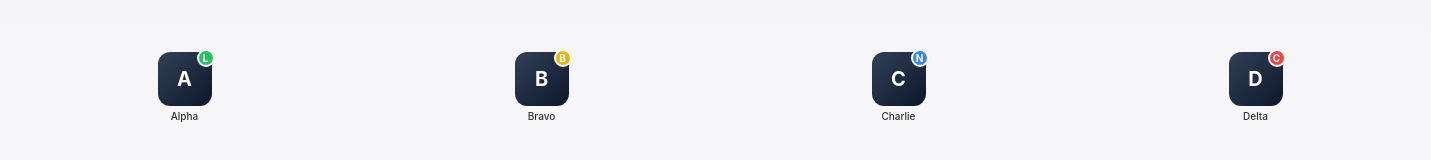
Search filtering via IconGrid › filters by badge label
The width and height of the screenshot is (1431, 160).
Press the mouse on the table named "Product apps" at (720, 87), box left=158, top=52, right=1282, bottom=122
Press the mouse on the table named "Product apps" at (720, 87), box left=158, top=52, right=1282, bottom=122
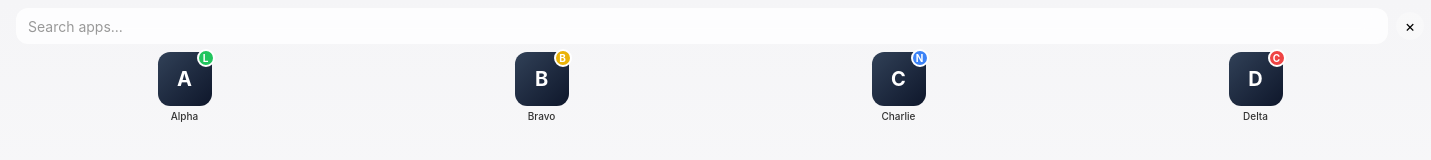
Type "live" into the field labelled "Search apps" at (702, 26), box left=16, top=8, right=1388, bottom=44
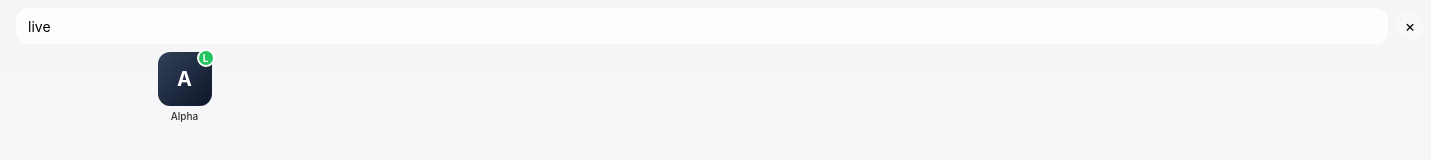
Expected: the text "Alpha" is shown, left=171, top=110, right=198, bottom=122
Expected: the button "Bravo" is gone
